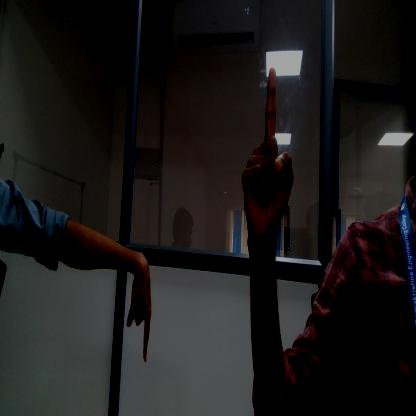Down: (126, 248, 158, 367)
Up: (244, 59, 295, 248)
